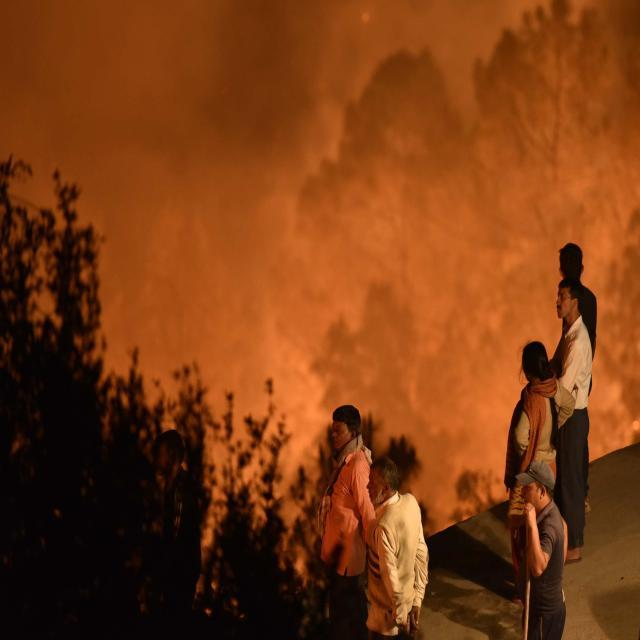Smoke: (0, 0, 508, 435)
